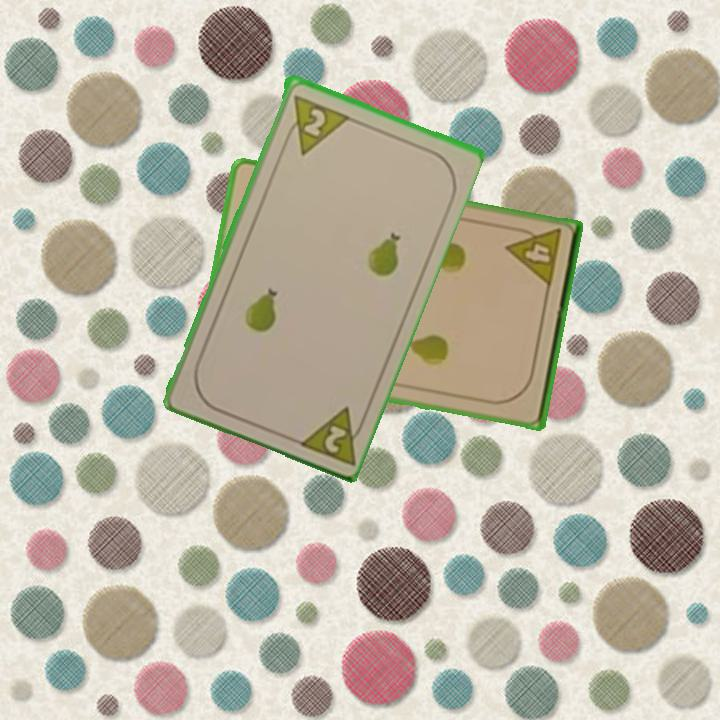2p: (292, 402, 370, 468), (278, 90, 350, 157)
4p: (503, 223, 564, 290)
